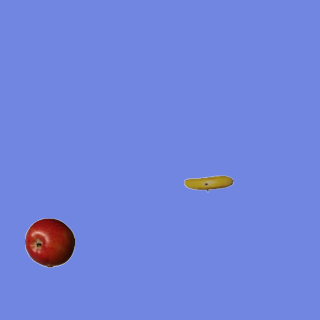Apple Braeburn: (24, 217, 74, 267)
Banana: (183, 158, 233, 208)
